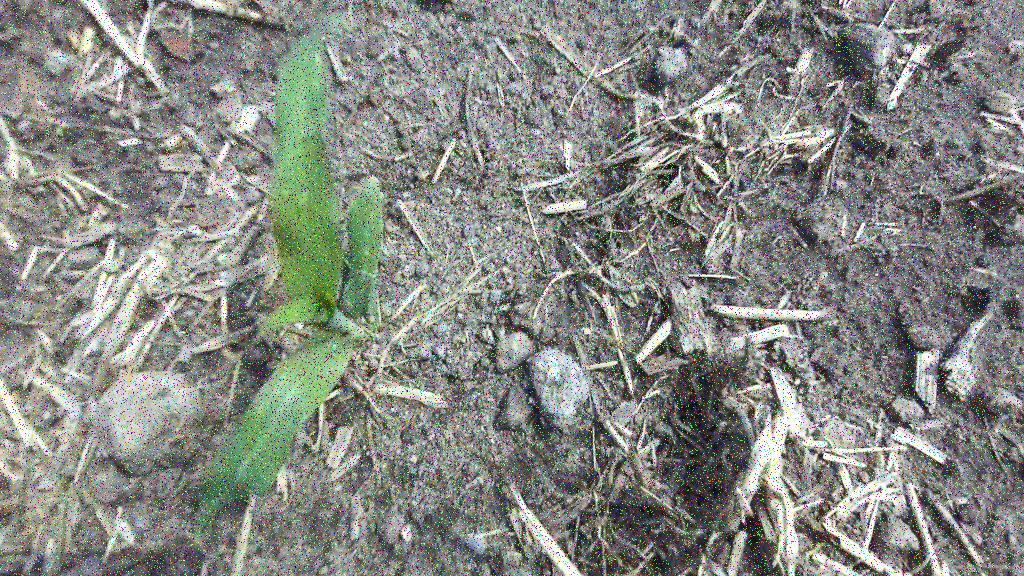BroWeed: (112, 516, 146, 556), (156, 130, 189, 152), (492, 244, 521, 269), (499, 255, 518, 284), (51, 118, 69, 138), (946, 9, 972, 21), (413, 166, 430, 182), (918, 69, 933, 87), (450, 186, 461, 201), (728, 78, 741, 88), (444, 185, 455, 196)
